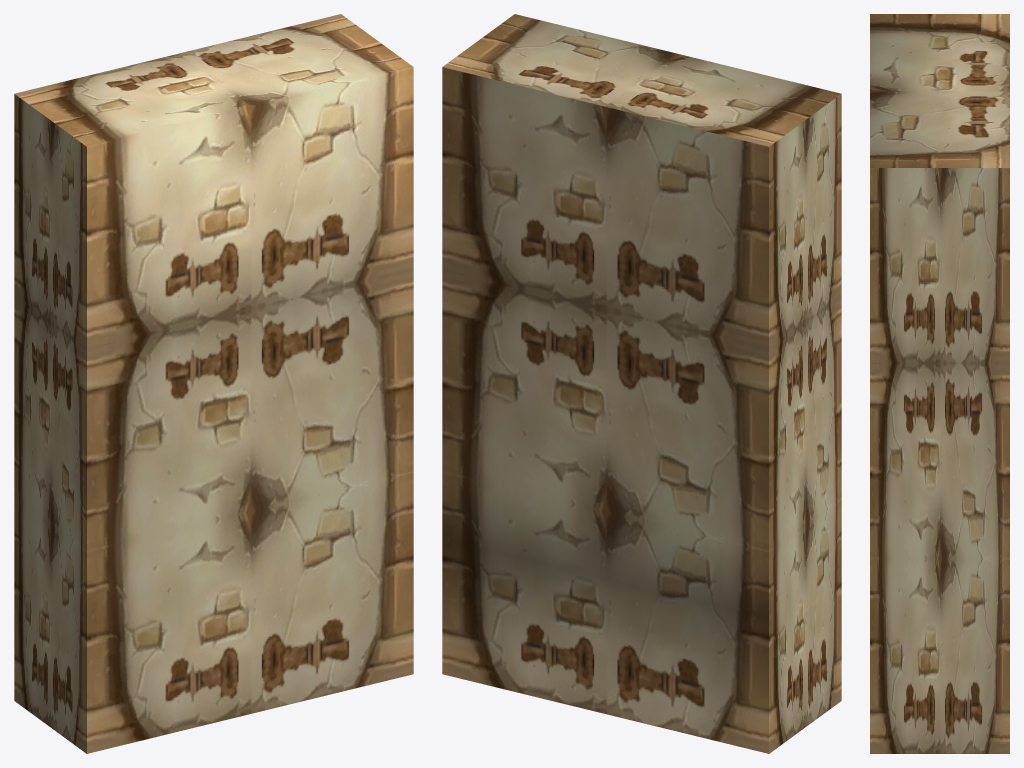
Rendered from SecretDoor.fbx.
The picture shows the model from 3 angles, left to right: view 1: azimuth 30°, elevation 25°; view 2: azimuth 150°, elevation 25°; view 3: azimuth 270°, elevation 25°; orthographic projection. The views are drawn at different scales.
Visible parts, largest first — view 1: 0_0; view 2: 0_0; view 3: 0_0.
Boxes of the visible parts, left/top/right/bottom form: 0_0: left=14, top=14, right=413, bottom=753; 0_0: left=442, top=14, right=841, bottom=753; 0_0: left=870, top=14, right=1009, bottom=753.
Bounding box in the file's own units: 1.19 × 2.11 × 0.457.
1 material, 1 textured.
